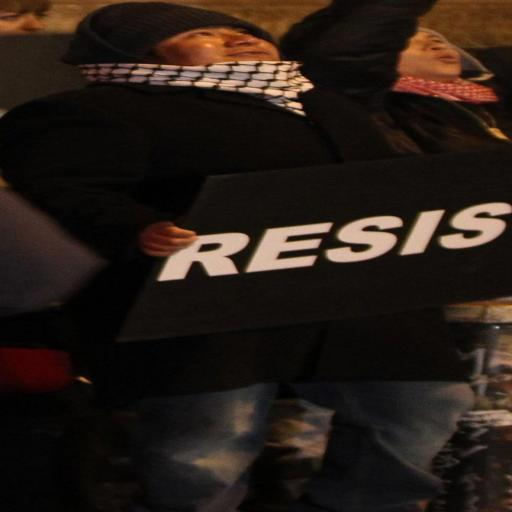person: (0, 0, 471, 511), (0, 0, 50, 35)
